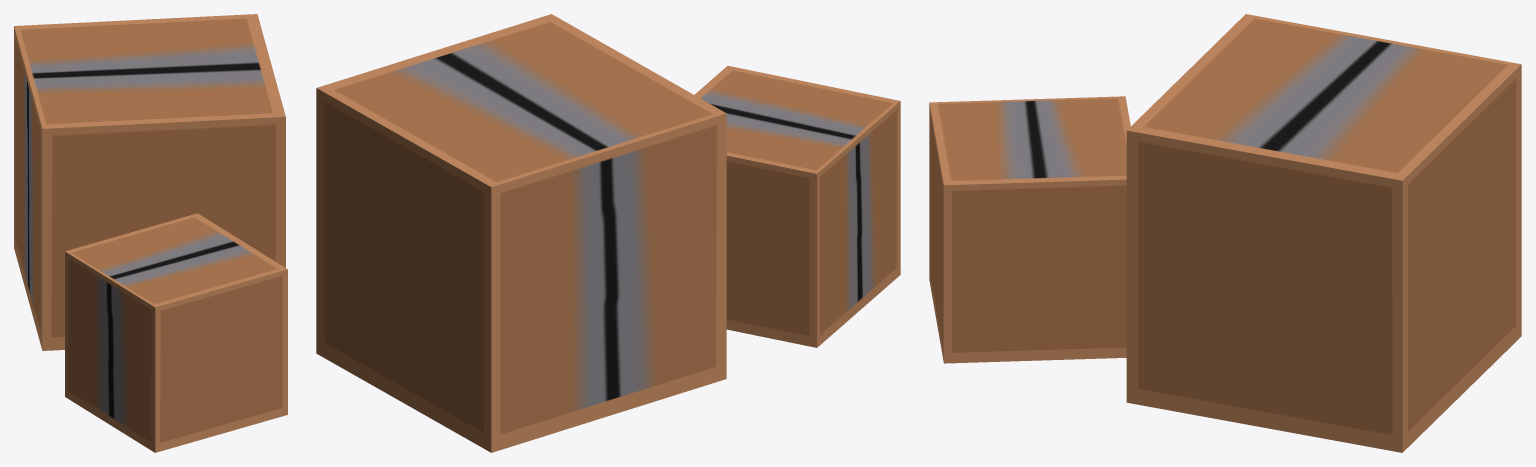
Rendered from packages.fbx.
The picture shows the model from 3 angles, left to right: view 1: azimuth 30°, elevation 25°; view 2: azimuth 150°, elevation 25°; view 3: azimuth 270°, elevation 25°; orthographic projection. The views are drawn at different scales.
Parts seen in each view (by area): view 1: PACKAGELARGE; view 2: PACKAGELARGE; view 3: PACKAGELARGE.
Part boxes in pixels (x1,y1,x2,y2): PACKAGELARGE: (14, 14, 287, 452); PACKAGELARGE: (316, 14, 900, 452); PACKAGELARGE: (929, 14, 1521, 452).
Bounding box in the file's own units: 27.66 × 19.52 × 37.89.
